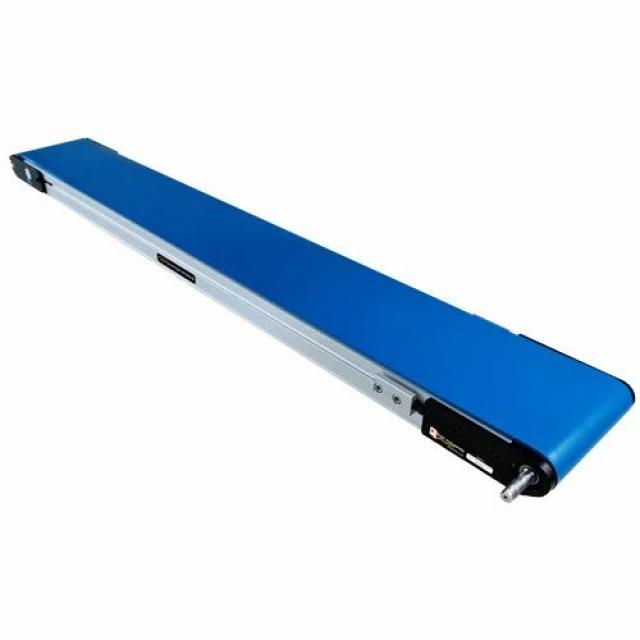conveyor: (4, 114, 634, 529)
